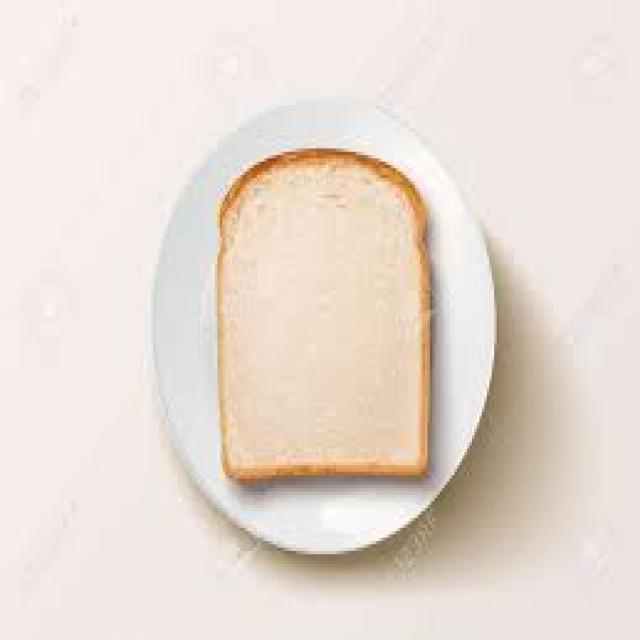Bread: (224, 155, 424, 476)
